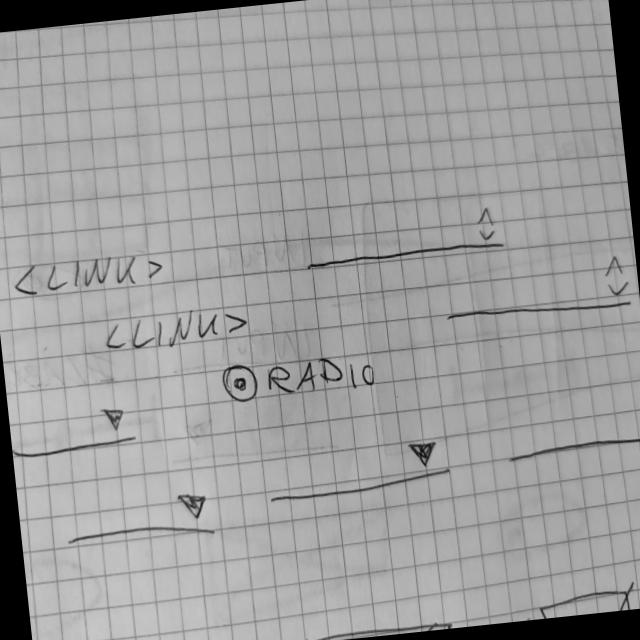link: (12, 246, 167, 300), (104, 304, 254, 359)
number-input: (301, 201, 507, 274), (440, 252, 635, 329), (501, 394, 640, 466)
radio: (219, 348, 379, 409)
select: (264, 438, 455, 509), (61, 488, 220, 554), (9, 401, 140, 462)
